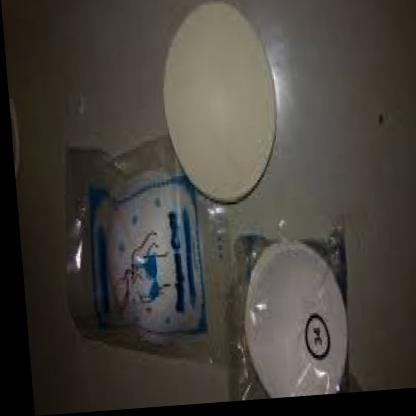Miscellaneous: (4, 0, 416, 408)
